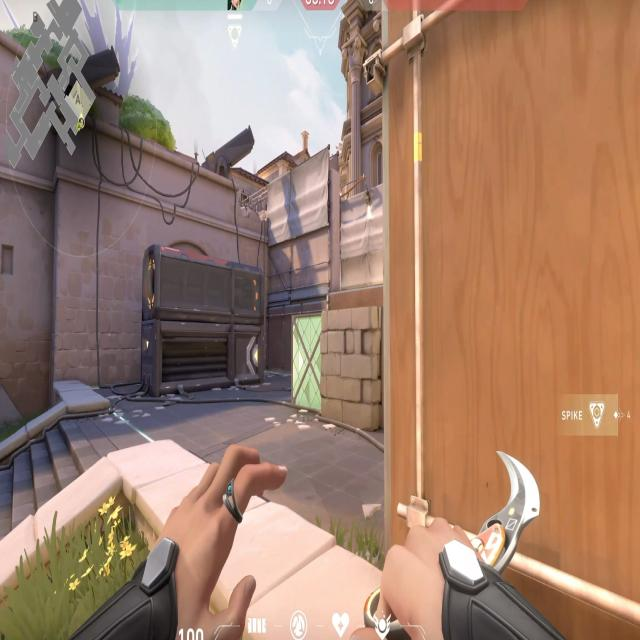A_Heaven_Wall: (257, 148, 345, 287)
A_Site_Box: (284, 302, 386, 439)
